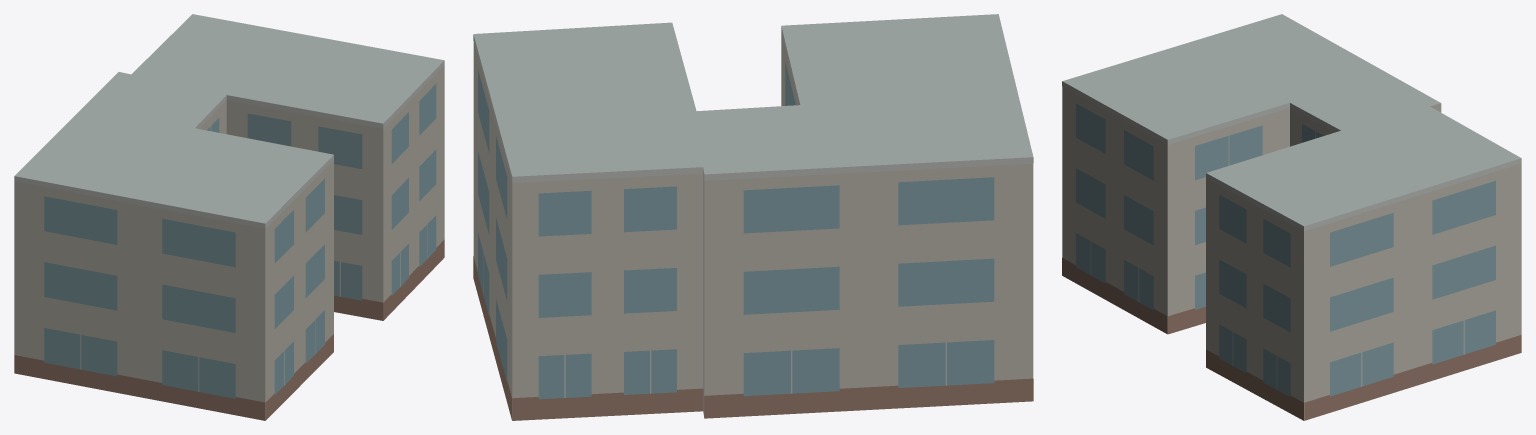
The model's file is survey-upis-32925288.glb.
3 views of the same model, side by side, from view 1: azimuth 30°, elevation 25°; view 2: azimuth 150°, elevation 25°; view 3: azimuth 270°, elevation 25° (orthographic). The views are drawn at different scales.
Visible parts, largest first — view 1: survey-upis-32925288.tmp; view 2: survey-upis-32925288.tmp; view 3: survey-upis-32925288.tmp.
Boxes of the visible parts, x1,y1,x2,y2 form: survey-upis-32925288.tmp: (14,14,444,420); survey-upis-32925288.tmp: (473,14,1033,420); survey-upis-32925288.tmp: (1062,14,1521,420).
Bounding box in the file's own units: 22.01 × 9.4 × 20.13.
